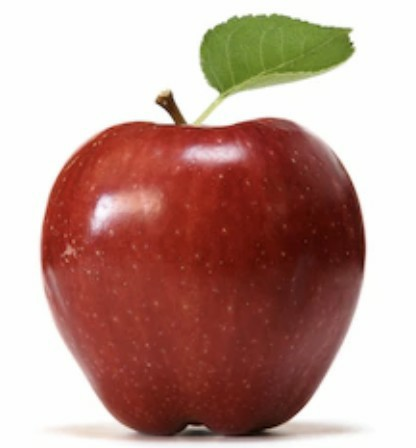fresh_apple: (41, 116, 375, 438)
